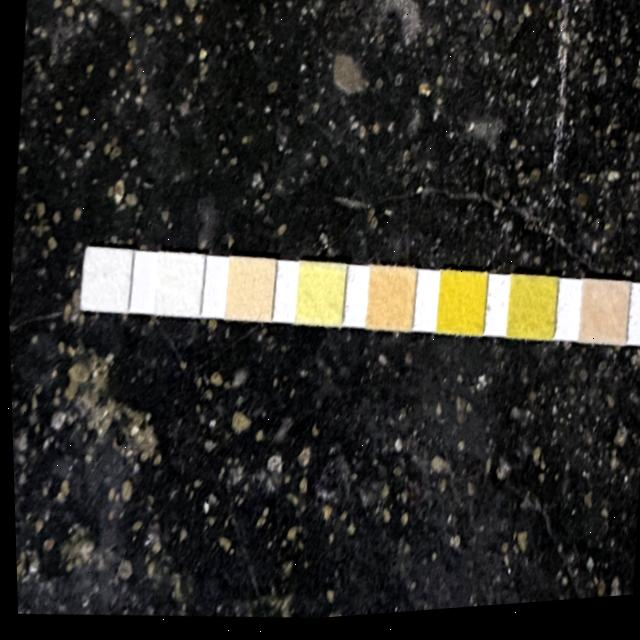Blood: (435, 278, 483, 340)
Ketone: (577, 289, 625, 353)
Leukocytes: (79, 248, 130, 311)
Nitrite: (153, 255, 202, 317)
Protein: (297, 265, 343, 328)
SpGravity: (504, 282, 556, 347)
Urobilinogen: (223, 261, 274, 323)
pH: (364, 271, 414, 336)
